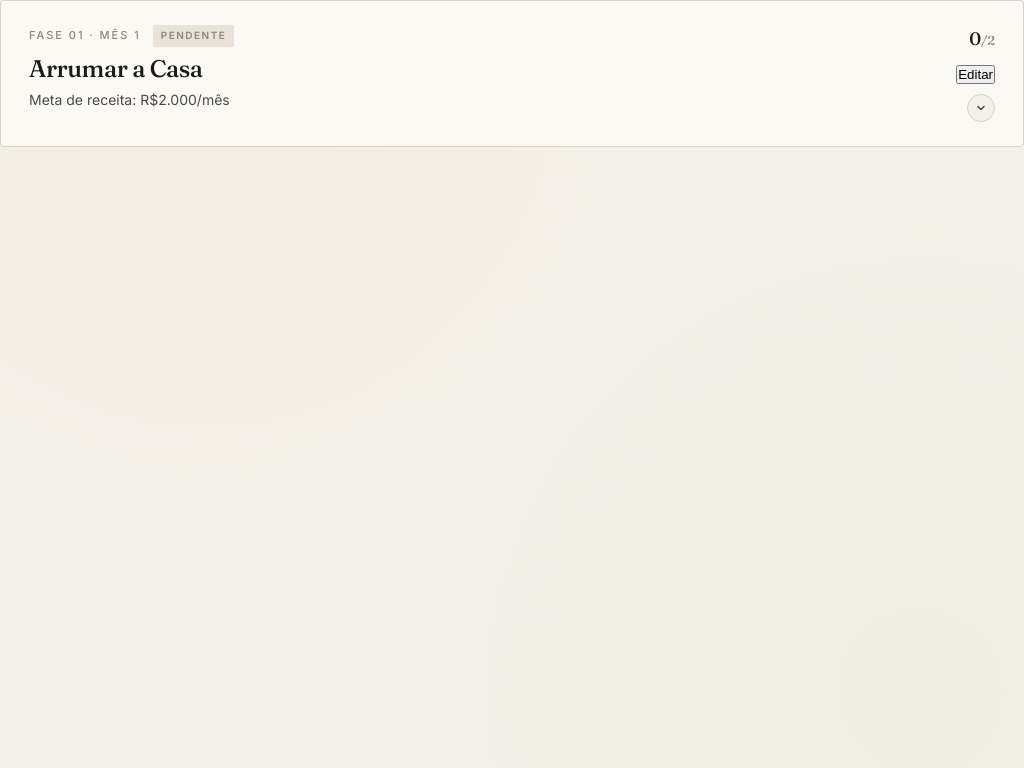
Test: Fase › admin actions — edit fase › should show edit form with current values when edit button is clicked
Step 1. Click the button with test id "btn-edit-fase-fase-1" → (976, 74), box [956,65,995,84]
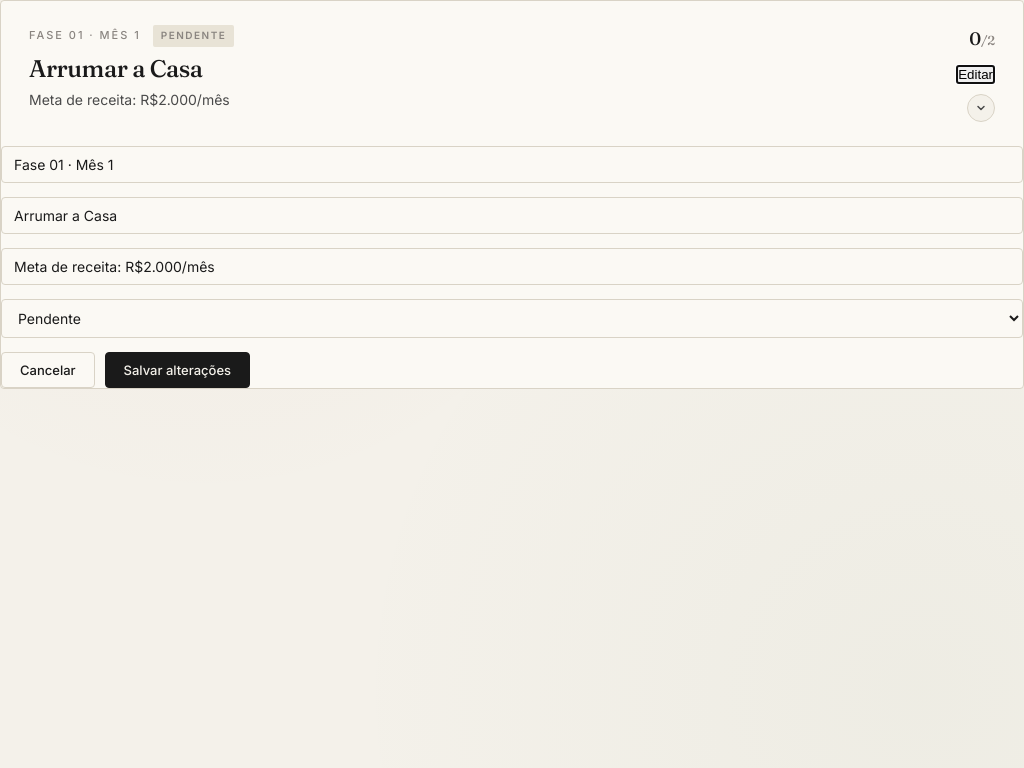
Result: the field with test id "input-titulo-fase-fase-1" holds "Arrumar a Casa" at [1,197,1023,234]
Result: the field with test id "input-resumo-fase-fase-1" holds "Meta de receita: R$2.000/mês" at [1,248,1023,285]
